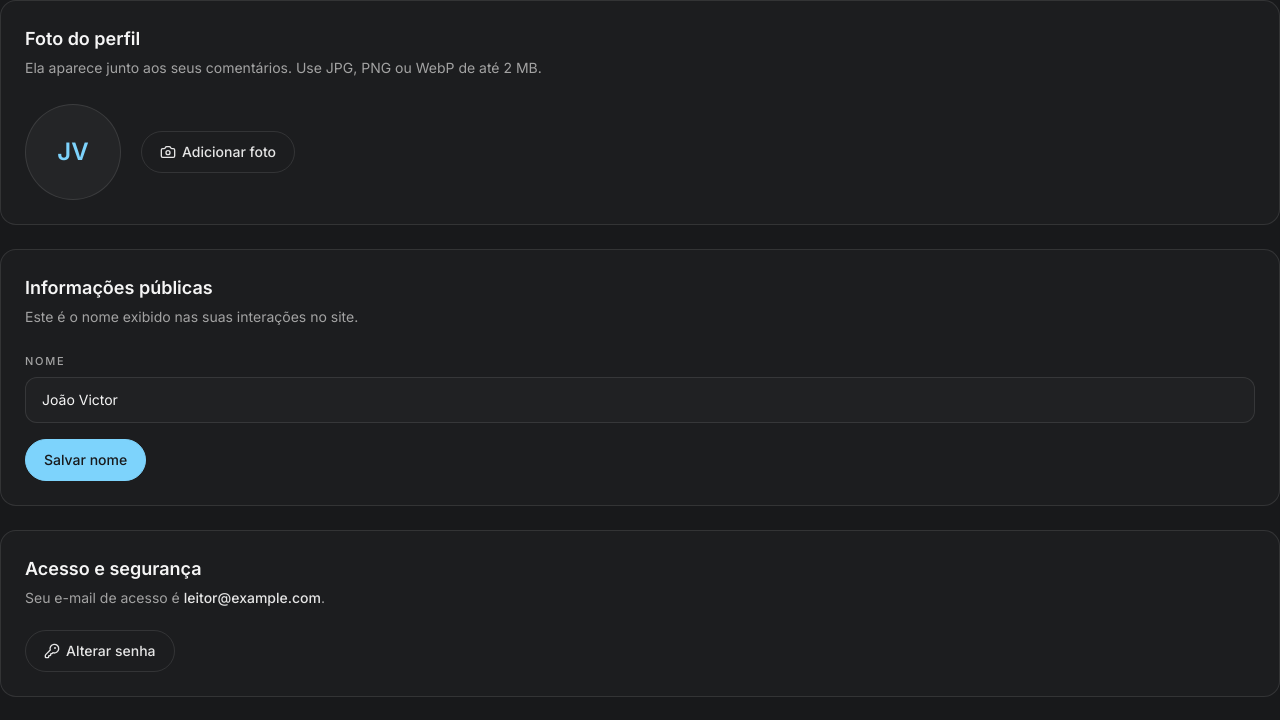
it: conteúdo da página de perfil › valida e normaliza o nome antes de atualizar o perfil
The width and height of the screenshot is (1280, 720).
Replace the text in the field labelled "Nome" with " J ": point(640, 400) [25,377,1255,423]
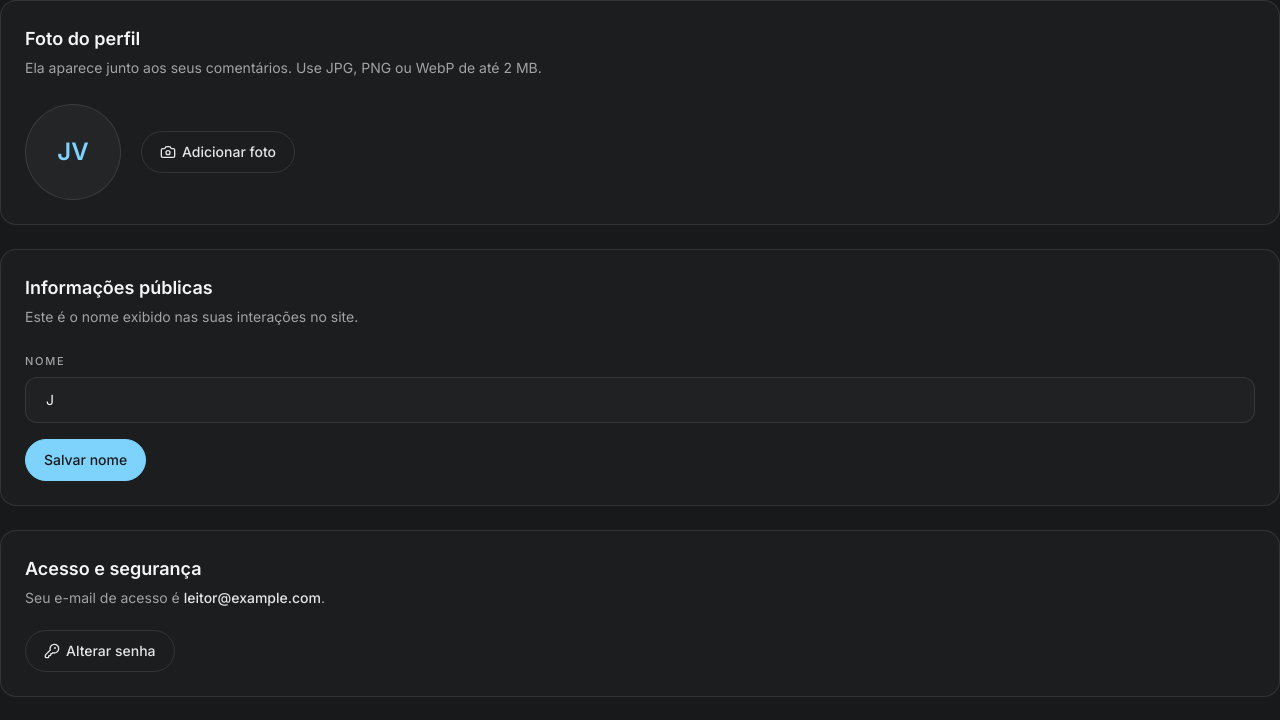
Click the button "Salvar nome": point(86, 460) [25,439,146,481]
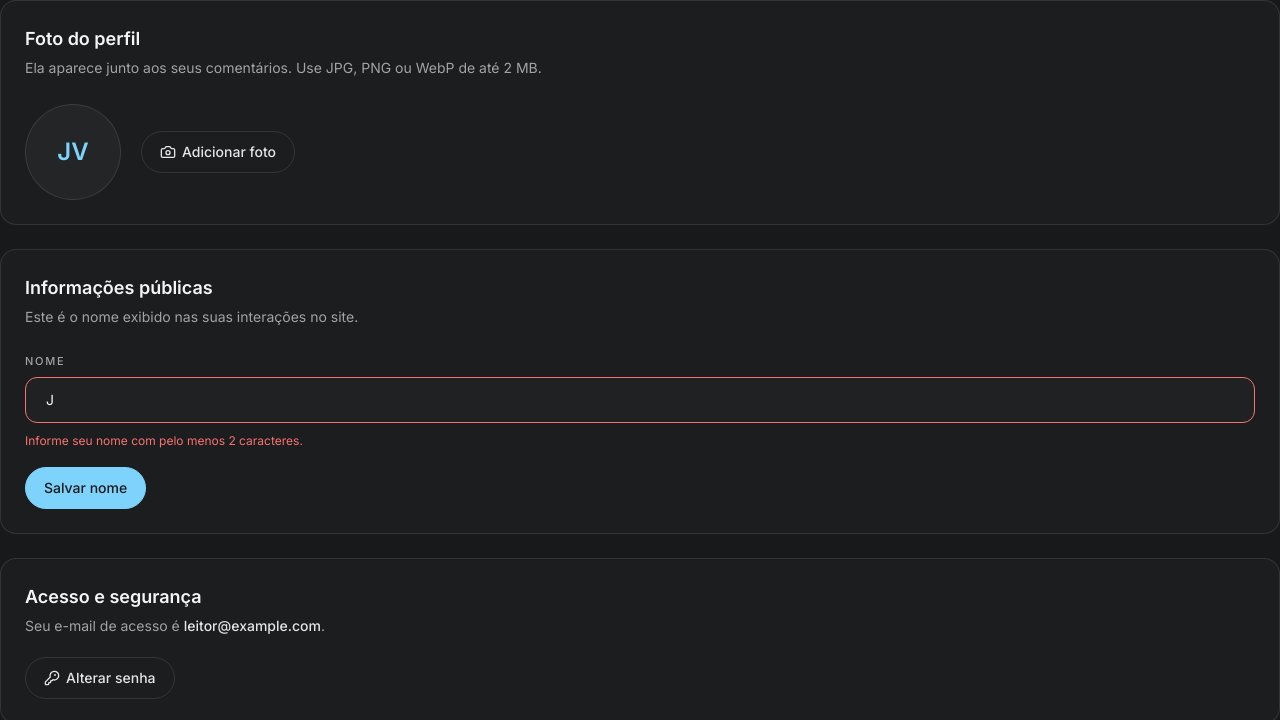
Expected: the text "Informe seu nome com pelo menos 2 caracteres." is shown, [25,433,303,448]
Replace the text in the field labelled "Nome" with "  Maria   Silva  ": point(640, 400) [25,377,1255,423]
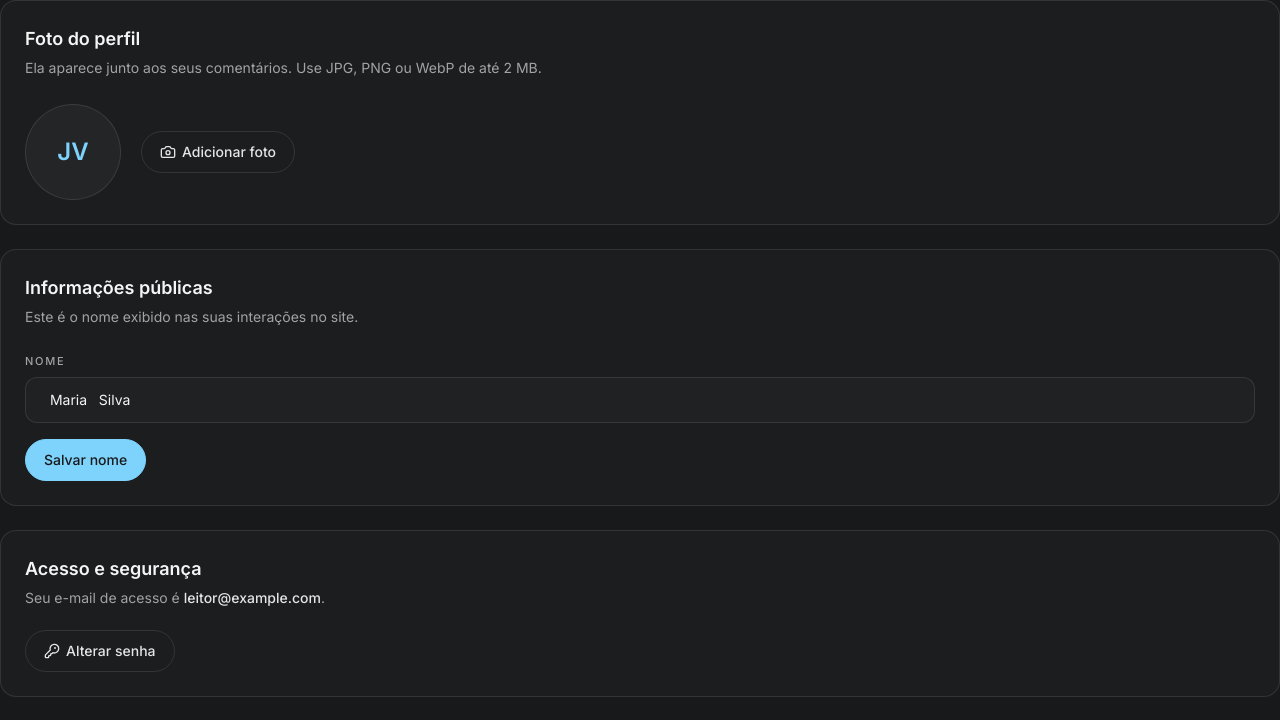
Click the button "Salvar nome": point(86, 460) [25,439,146,481]
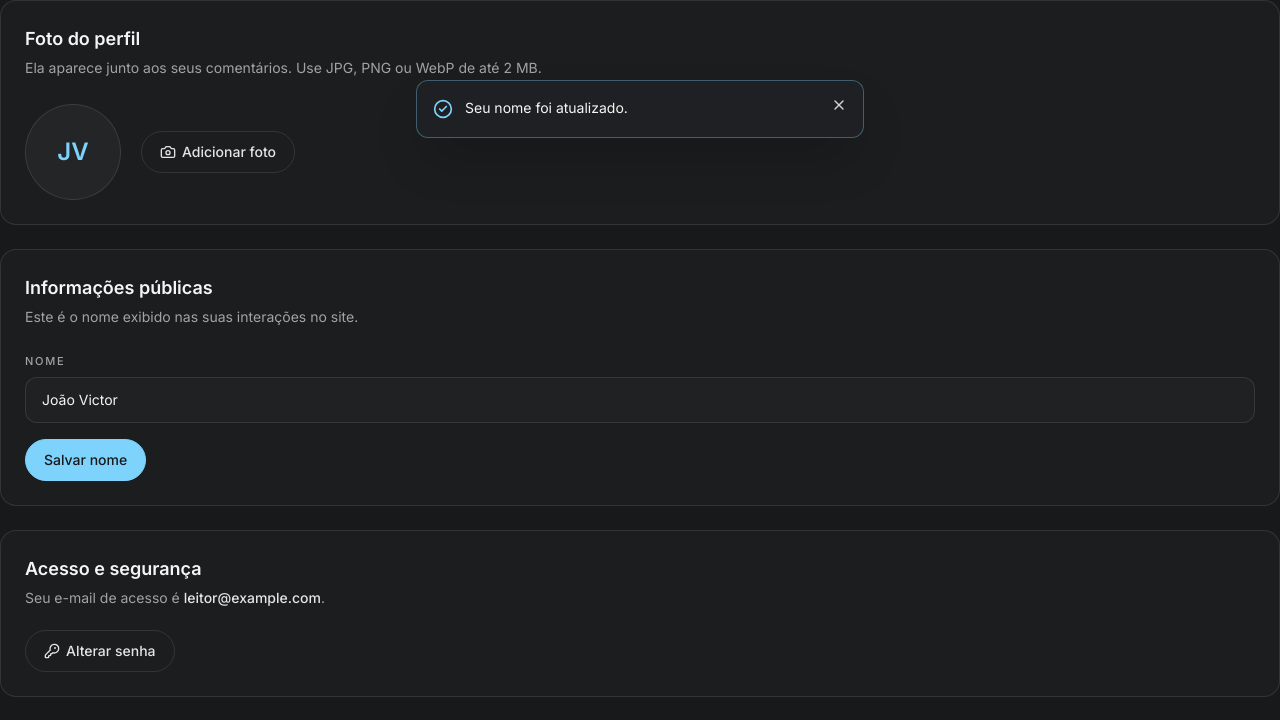
Expected: the message reads "Seu nome foi atualizado.", [465,99,628,116]
